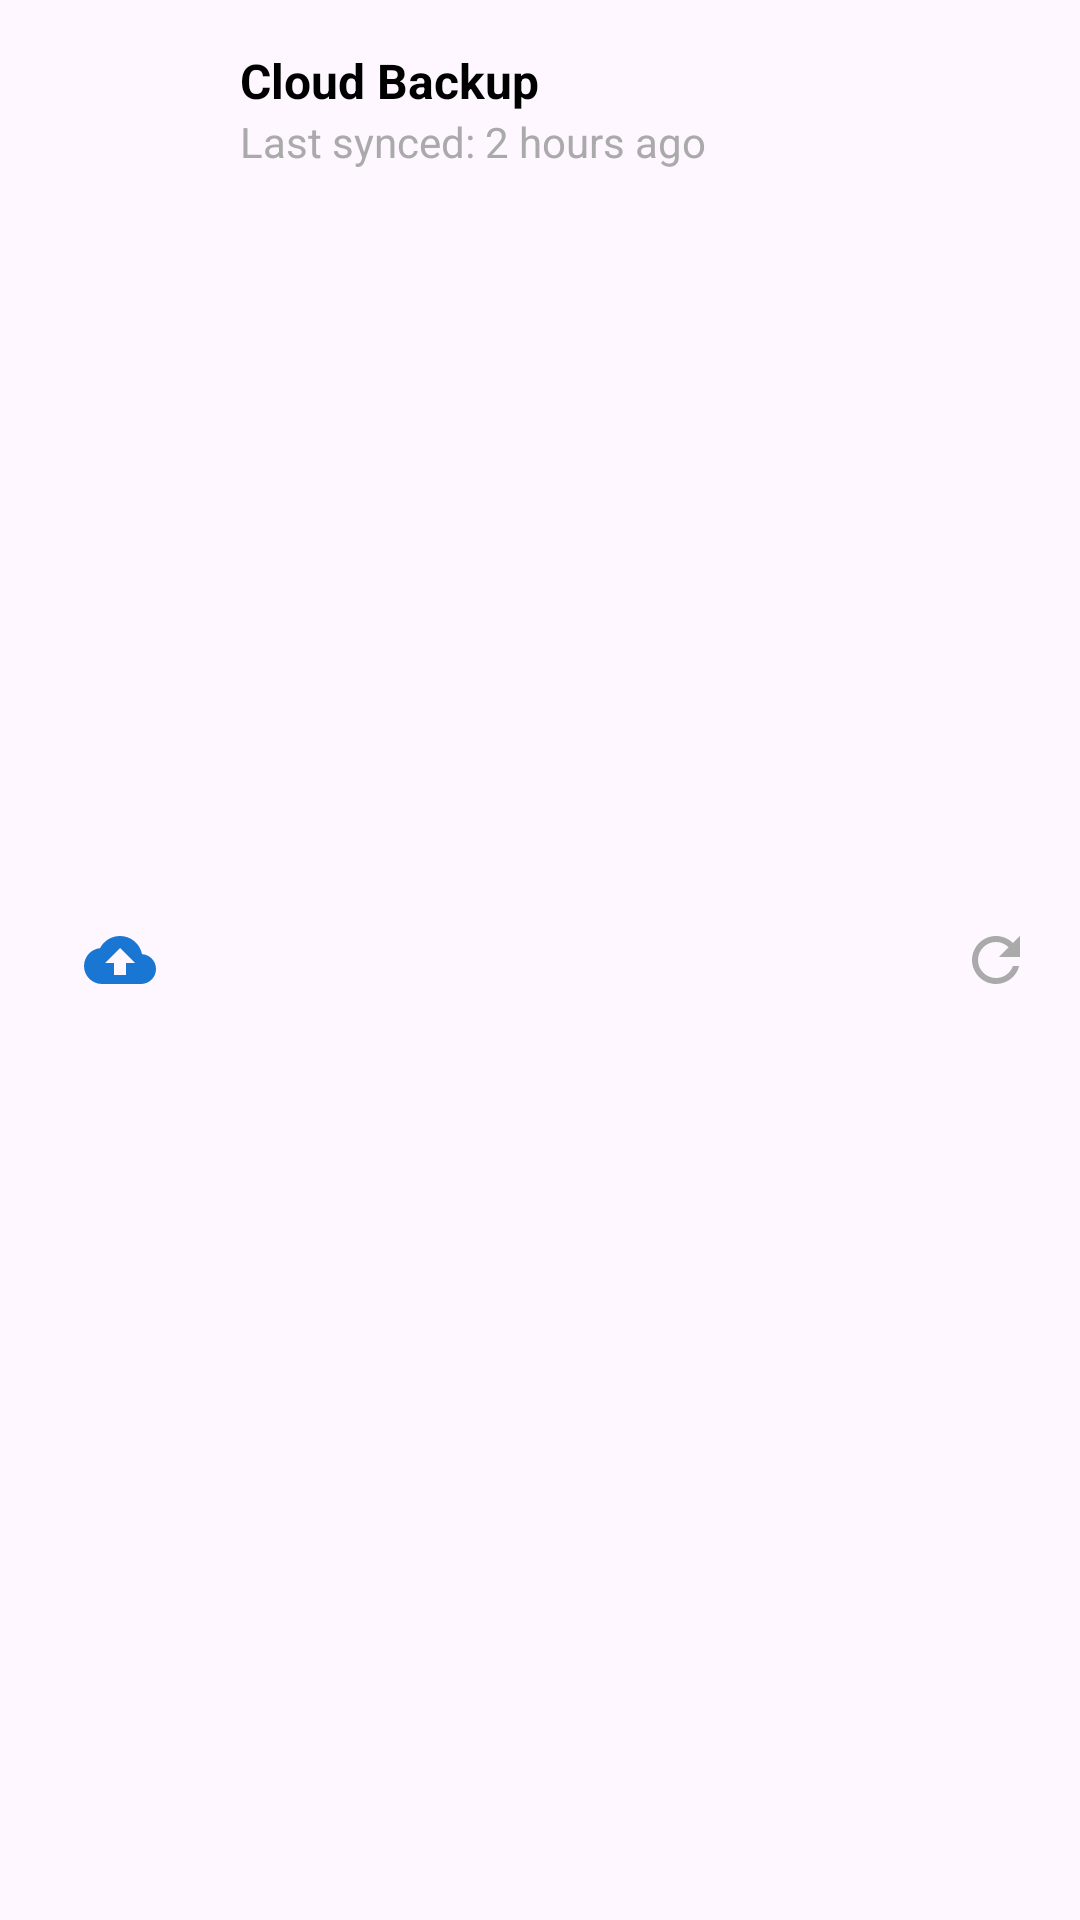

Locate icon controls on the screen. Image size 1080 × 1920, boxes as (x1, y1, x2, y2).
cloud upload: (84, 936, 156, 984)
refresh: (972, 936, 1020, 984)
